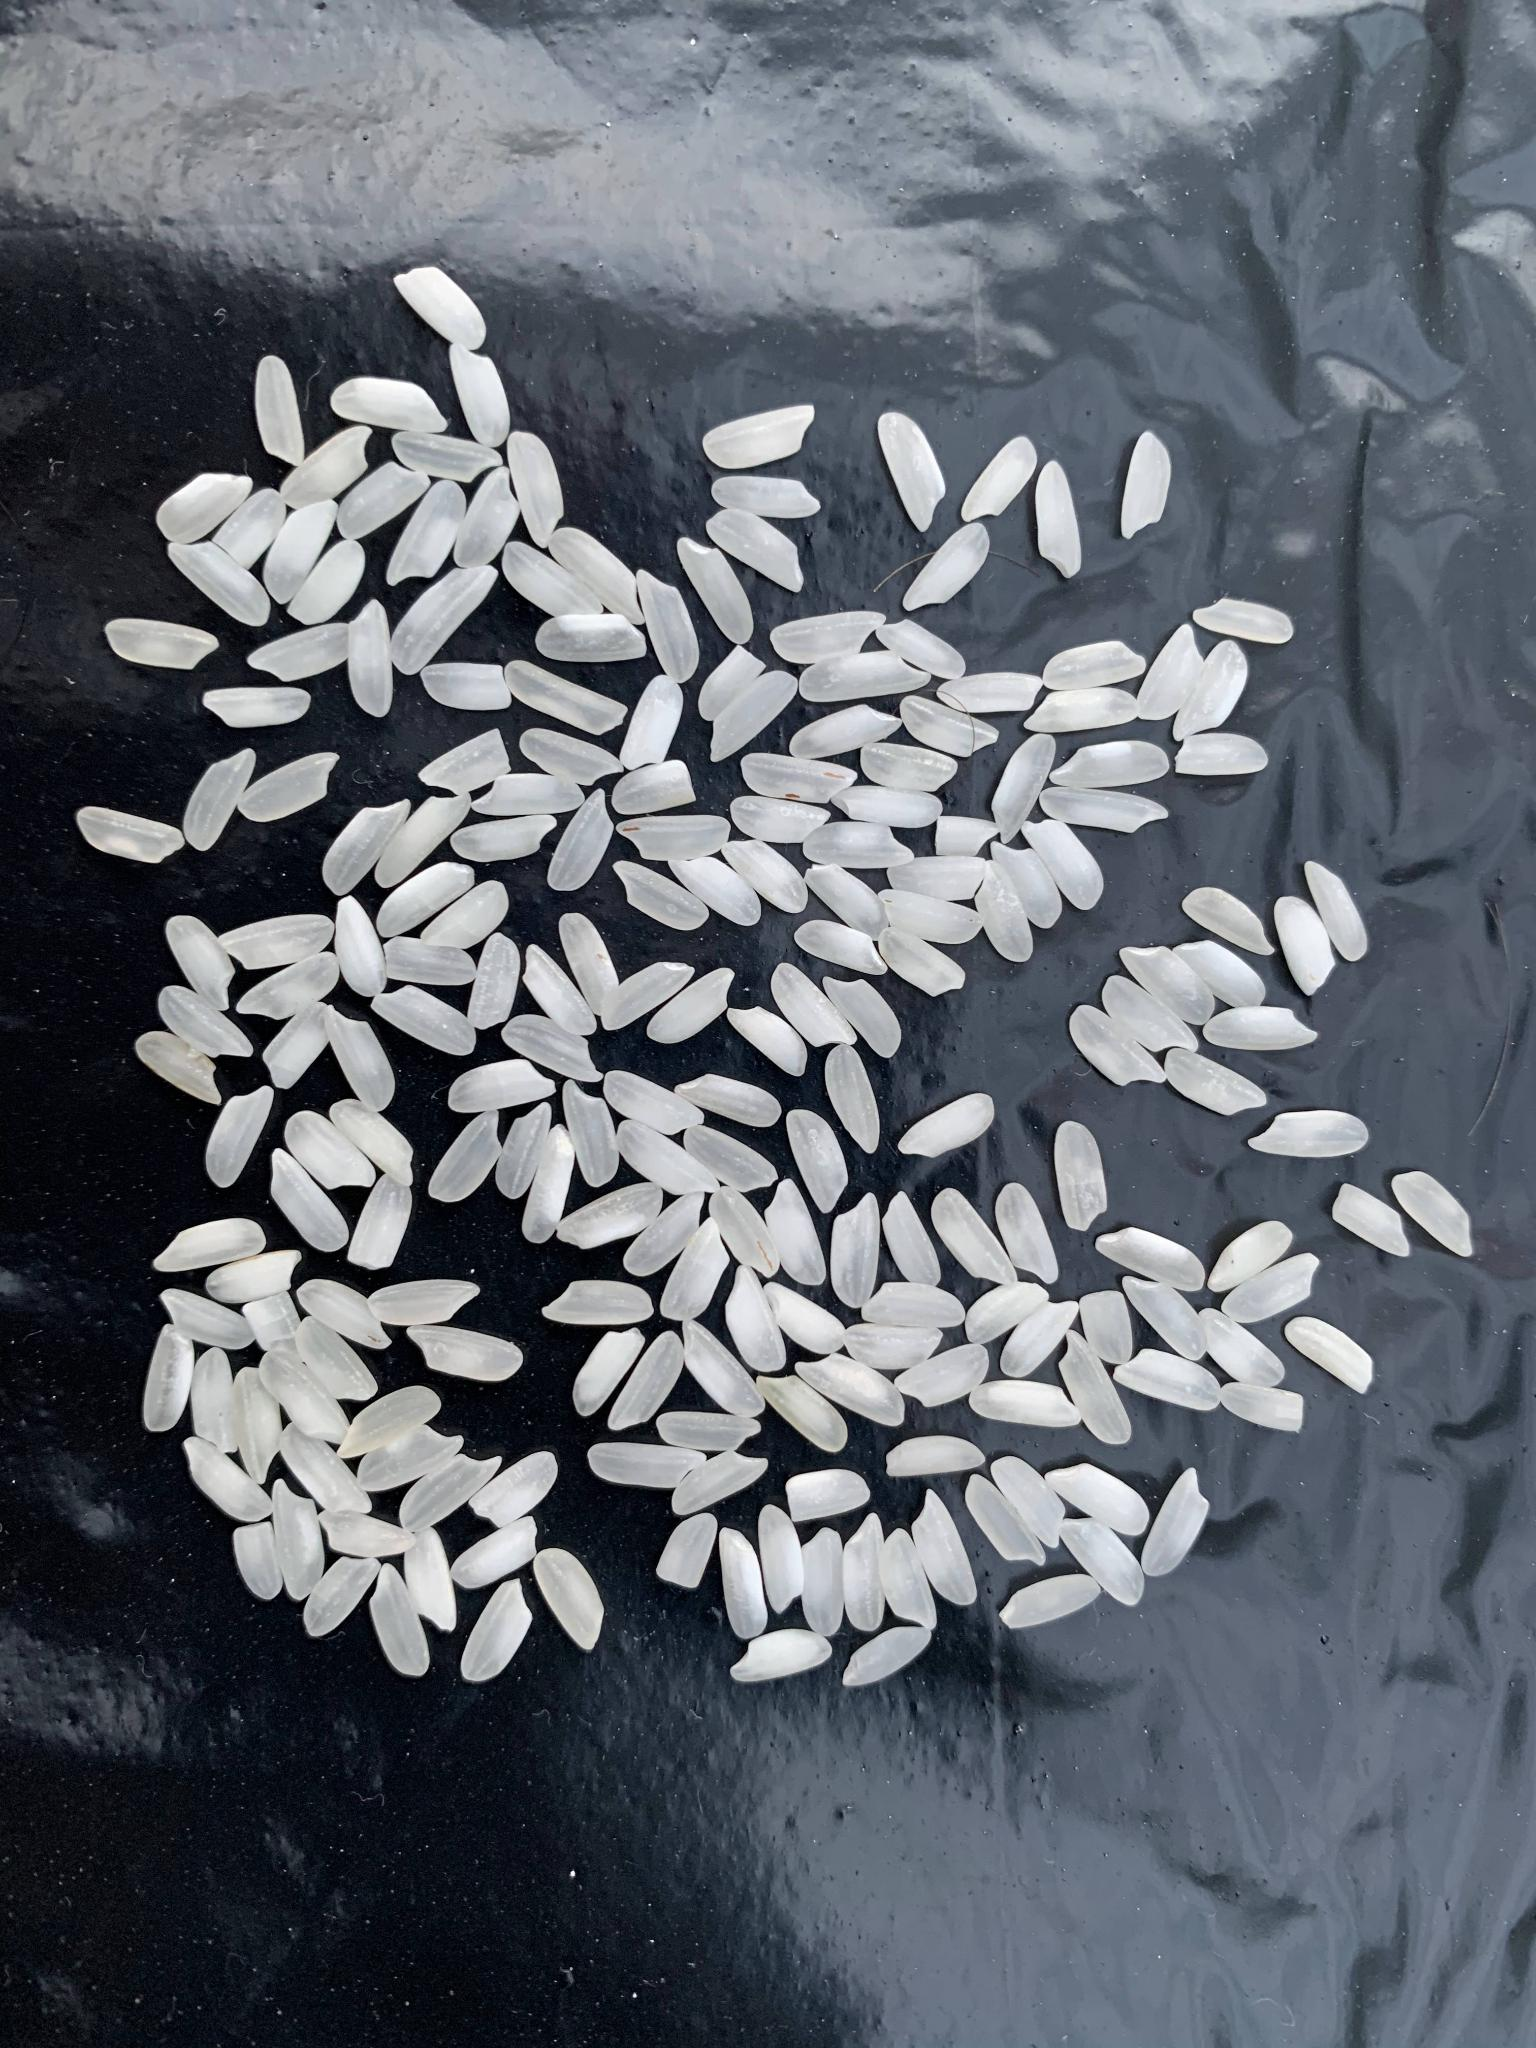rice: (392, 566, 497, 674), (549, 527, 644, 627), (374, 793, 473, 889), (507, 660, 628, 735), (261, 1350, 353, 1445), (323, 798, 411, 897), (1058, 1329, 1131, 1447), (168, 543, 269, 627), (708, 669, 799, 763), (282, 1421, 373, 1514), (931, 1188, 1016, 1285), (1068, 1003, 1167, 1087), (682, 1317, 765, 1417), (387, 482, 466, 585), (269, 1150, 349, 1253), (707, 510, 803, 593), (878, 413, 945, 532), (676, 539, 752, 645), (607, 1330, 686, 1432), (399, 1455, 503, 1530), (616, 1121, 721, 1197), (795, 1353, 904, 1426), (503, 542, 607, 618), (234, 950, 344, 1021), (1118, 947, 1217, 1026), (912, 1488, 978, 1605), (366, 985, 474, 1056), (1141, 1467, 1212, 1576), (902, 524, 987, 613), (282, 424, 373, 508), (182, 750, 257, 851), (1171, 640, 1246, 742), (336, 461, 431, 540), (461, 1579, 534, 1682), (1047, 1463, 1150, 1535), (376, 863, 474, 939), (770, 963, 857, 1048), (395, 268, 486, 350), (1062, 1517, 1144, 1608), (557, 1180, 663, 1250), (1104, 976, 1199, 1053), (186, 1438, 273, 1522), (1023, 821, 1104, 911), (237, 751, 342, 821), (966, 1476, 1046, 1567), (337, 1387, 439, 1458), (331, 1098, 413, 1185), (547, 789, 616, 892), (534, 1550, 603, 1653), (1392, 1171, 1473, 1259), (636, 568, 697, 684), (207, 1085, 274, 1190), (1165, 1048, 1270, 1116), (265, 503, 336, 603), (992, 734, 1057, 843), (1096, 1227, 1205, 1292), (502, 1013, 603, 1082), (660, 1218, 729, 1319), (328, 1006, 394, 1113), (1121, 1277, 1205, 1361), (645, 968, 734, 1047), (758, 1376, 847, 1455), (1286, 1317, 1375, 1397), (428, 1111, 502, 1205), (1220, 1255, 1320, 1324), (703, 406, 816, 468), (991, 1455, 1063, 1550), (470, 1451, 558, 1529), (284, 1109, 374, 1185), (508, 431, 565, 552), (523, 943, 597, 1035), (958, 435, 1037, 521), (298, 1314, 378, 1400), (158, 985, 253, 1056), (453, 468, 520, 569), (763, 1179, 826, 1285), (1304, 860, 1368, 963), (1200, 1309, 1284, 1388), (1112, 1350, 1220, 1411), (287, 540, 365, 626), (1179, 887, 1275, 956), (600, 1071, 705, 1134), (165, 914, 232, 1011), (708, 1187, 779, 1279), (724, 1264, 786, 1371), (821, 977, 902, 1058), (1173, 939, 1267, 1008), (803, 864, 889, 940), (136, 1030, 223, 1105), (452, 1516, 539, 1590), (770, 610, 887, 664), (157, 474, 252, 542), (615, 861, 710, 929), (602, 963, 697, 1030), (573, 1327, 645, 1416), (995, 1182, 1058, 1284), (670, 856, 762, 926), (219, 914, 332, 971), (371, 1564, 428, 1677), (721, 839, 807, 913), (298, 1280, 392, 1348), (449, 343, 510, 447), (991, 842, 1062, 930), (345, 1176, 411, 1271), (408, 1326, 523, 1380), (516, 727, 624, 785), (787, 1109, 847, 1214), (899, 1093, 995, 1158), (899, 695, 1000, 756), (153, 1218, 266, 1272), (686, 1126, 779, 1192), (103, 618, 219, 671), (878, 927, 966, 997), (894, 1345, 989, 1409), (274, 1479, 324, 1601), (361, 1427, 461, 1488), (419, 880, 510, 948), (303, 1558, 381, 1637), (1000, 1301, 1081, 1377), (561, 1079, 618, 1187), (248, 622, 353, 681), (1208, 1221, 1292, 1293), (419, 729, 511, 795), (232, 1367, 284, 1485), (560, 914, 620, 1016), (1275, 895, 1334, 997), (1247, 1109, 1368, 1159), (1041, 789, 1170, 835), (670, 1453, 768, 1514), (1137, 624, 1200, 719), (789, 705, 900, 758), (79, 806, 184, 863), (826, 1045, 879, 1155), (1034, 461, 1083, 581), (447, 1061, 555, 1114), (144, 1322, 195, 1434), (978, 861, 1034, 963), (741, 755, 858, 803), (524, 1126, 573, 1243), (623, 674, 682, 769), (161, 1288, 257, 1348), (676, 1074, 783, 1127), (394, 431, 503, 482), (1054, 1121, 1105, 1230), (1049, 742, 1170, 789), (587, 1443, 708, 1490), (265, 1003, 331, 1089), (720, 1524, 770, 1637), (1334, 1182, 1410, 1256), (728, 1006, 807, 1077), (213, 490, 282, 571), (1120, 431, 1171, 539), (881, 1529, 936, 1630), (495, 1101, 552, 1200), (883, 1190, 941, 1285), (879, 890, 983, 943), (729, 1627, 833, 1680), (766, 1282, 845, 1351), (253, 356, 303, 464), (205, 1250, 303, 1305), (1000, 1576, 1099, 1630), (874, 619, 965, 679), (534, 614, 645, 663), (833, 1193, 879, 1308), (966, 1280, 1049, 1345), (966, 1380, 1079, 1427), (336, 893, 386, 998), (466, 932, 521, 1027), (792, 921, 887, 976), (407, 1527, 457, 1630), (1042, 640, 1146, 690), (842, 1629, 931, 1687), (615, 816, 733, 860), (369, 1280, 482, 1326), (452, 814, 557, 863), (758, 1503, 803, 1614), (699, 647, 765, 722), (729, 797, 833, 845), (1023, 689, 1137, 732), (1204, 1006, 1318, 1050), (708, 476, 821, 519), (192, 1347, 239, 1451), (655, 1513, 720, 1588), (542, 1280, 653, 1324), (845, 1322, 944, 1371), (350, 600, 390, 718), (783, 1467, 871, 1521), (886, 856, 989, 901), (833, 785, 942, 827), (800, 1529, 842, 1637), (611, 761, 695, 814), (319, 1509, 416, 1555), (845, 1513, 883, 1630), (1192, 598, 1292, 642), (1220, 1384, 1304, 1435), (384, 937, 476, 984), (863, 1284, 965, 1326), (231, 1522, 286, 1600), (883, 1435, 987, 1476), (655, 1413, 762, 1451), (421, 664, 511, 710), (207, 687, 311, 726), (1079, 1288, 1133, 1364), (1176, 734, 1270, 776), (937, 672, 1042, 710), (245, 1292, 298, 1356), (933, 818, 997, 858)
